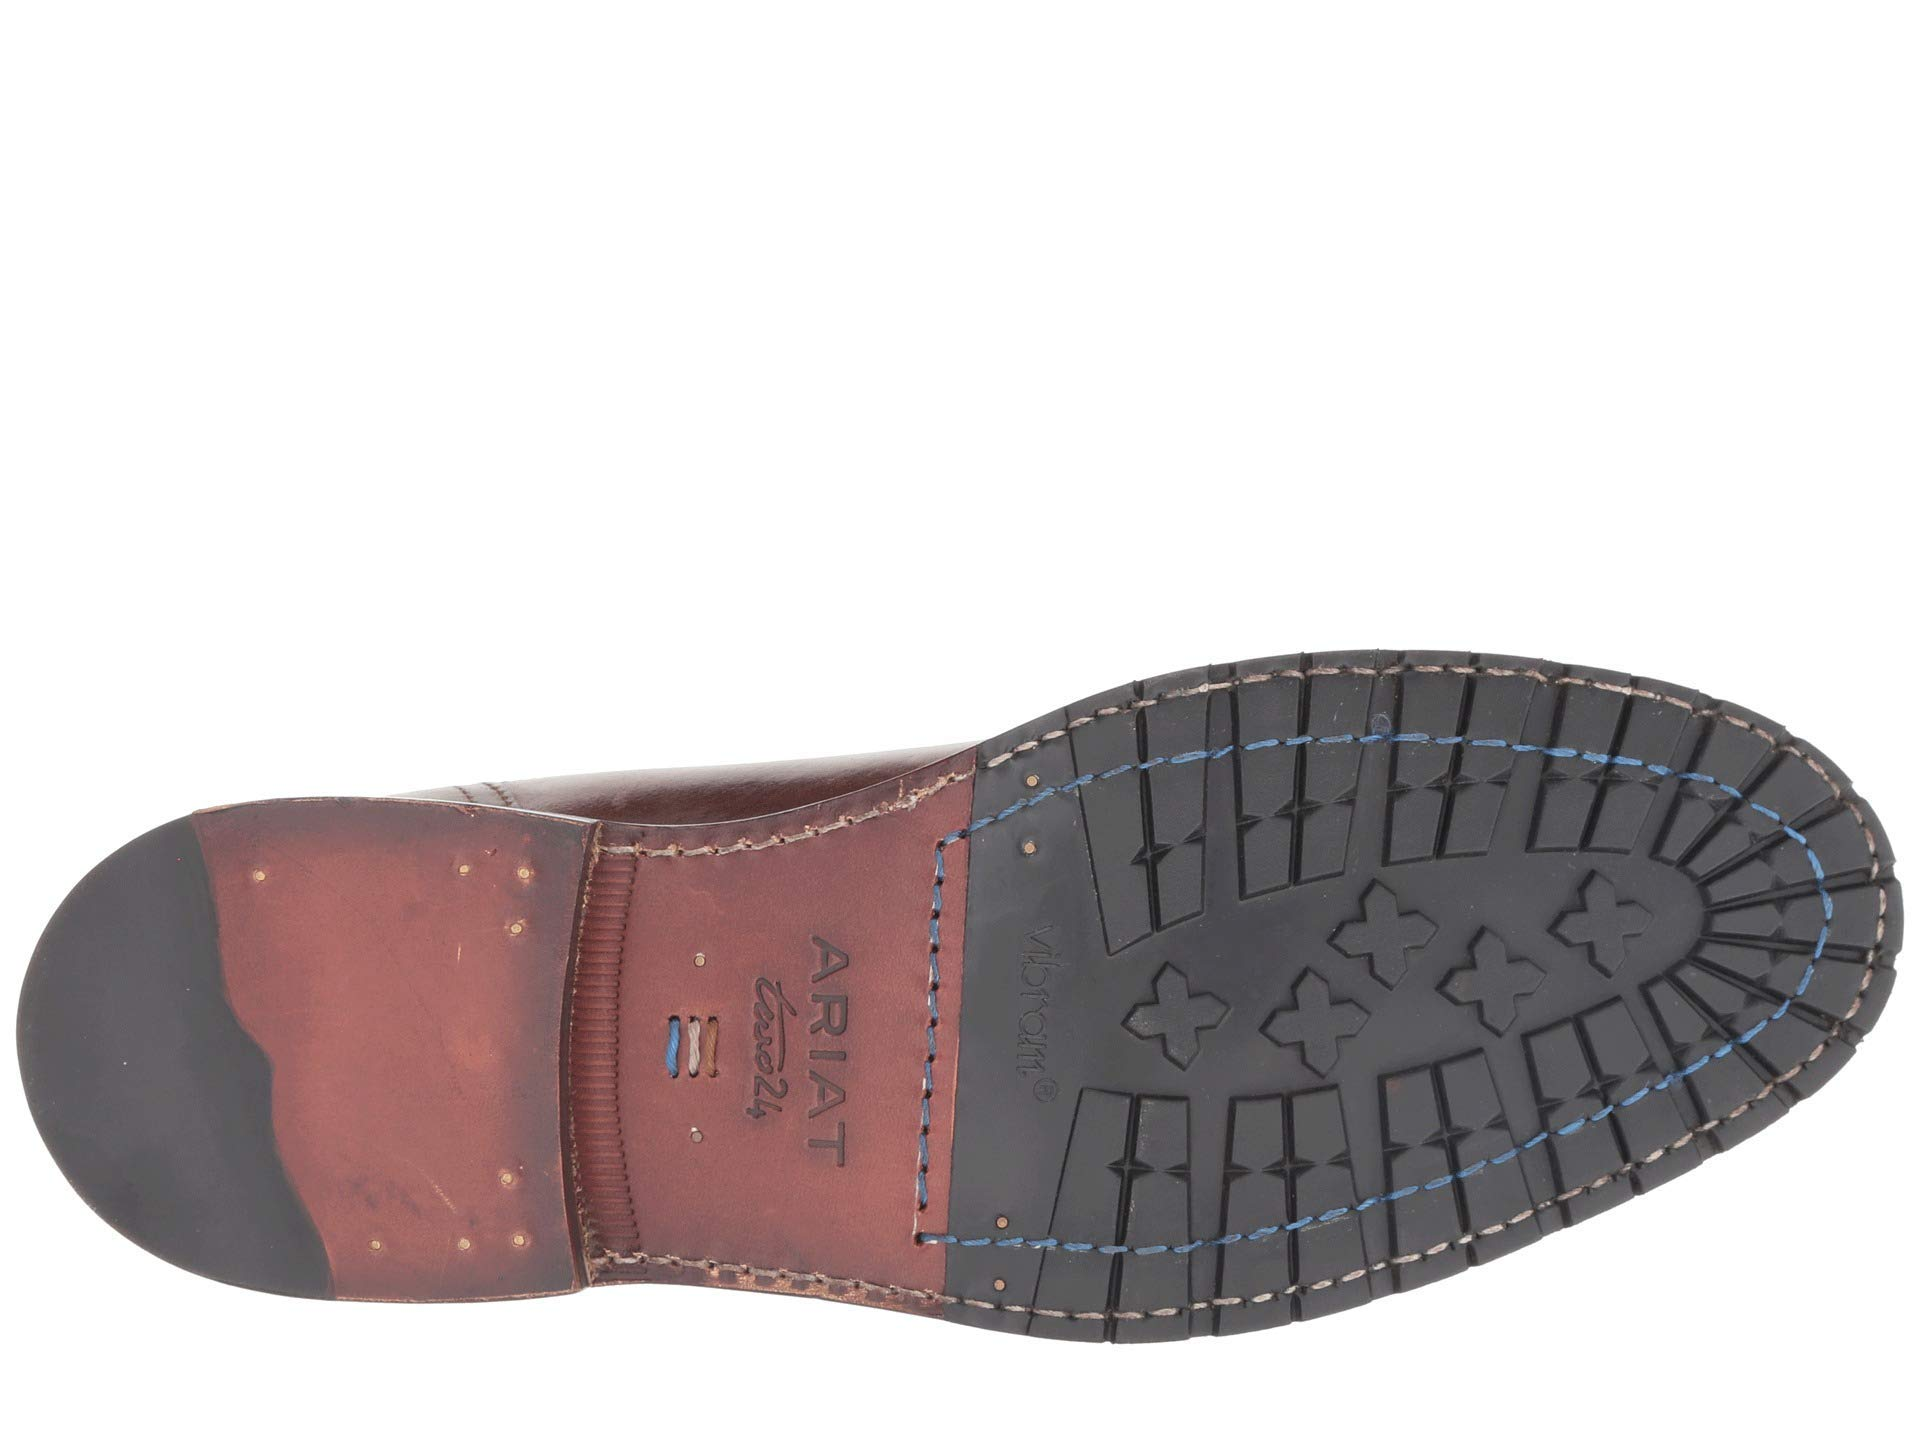star: (1432, 833, 1652, 1048), (1231, 882, 1447, 1091)
